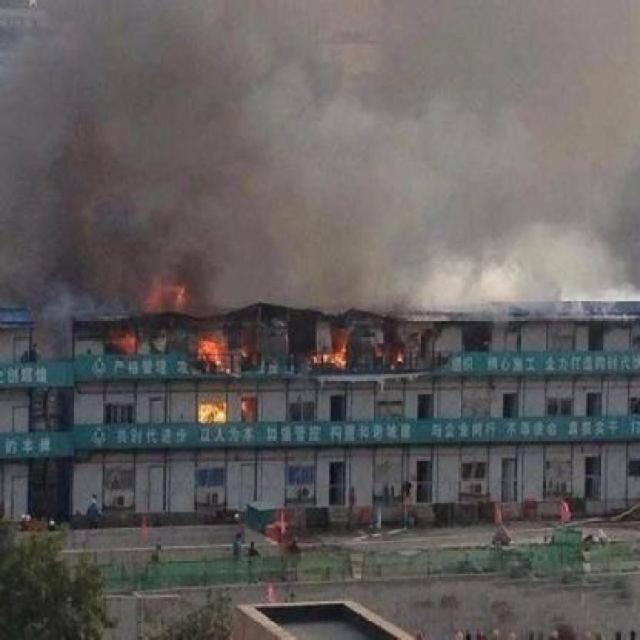Fire: (195, 324, 232, 376), (314, 333, 351, 373), (381, 330, 414, 368), (194, 397, 226, 425), (241, 394, 259, 430), (112, 322, 129, 356)
